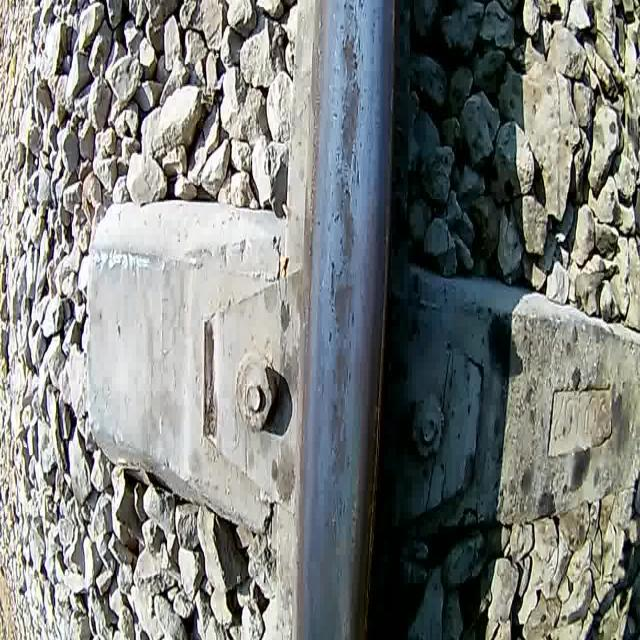Squats: (334, 26, 364, 172), (333, 173, 359, 270), (325, 398, 349, 488), (331, 277, 356, 342), (329, 343, 352, 396)
